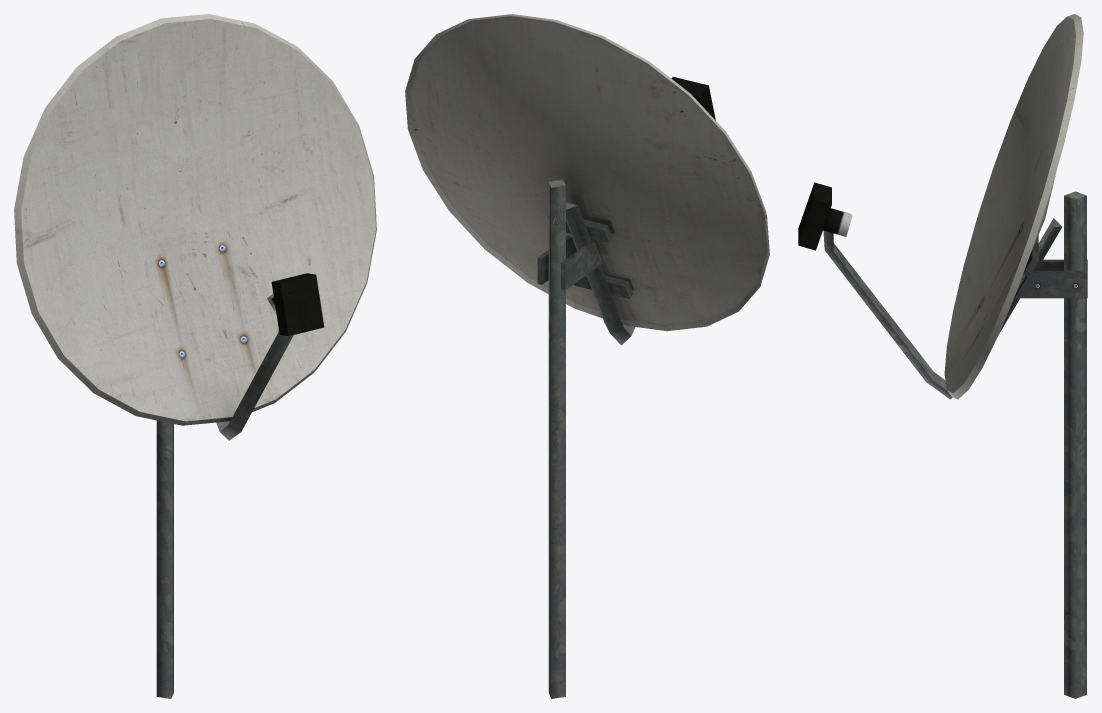
Rendered from satellite_LOD1.fbx.
The picture shows the model from 3 angles, left to right: view 1: azimuth 30°, elevation 25°; view 2: azimuth 150°, elevation 25°; view 3: azimuth 270°, elevation 25°; orthographic projection. The views are drawn at different scales.
Parts seen in each view (by area): view 1: polySurface296; view 2: polySurface296; view 3: polySurface296.
Part boxes in pixels (x1=…): polySurface296: x1=14, y1=14, x2=376, y2=698; polySurface296: x1=405, y1=14, x2=769, y2=698; polySurface296: x1=798, y1=14, x2=1087, y2=698.
Size of the model in its own units: 1.88 by 3.39 by 1.34.
